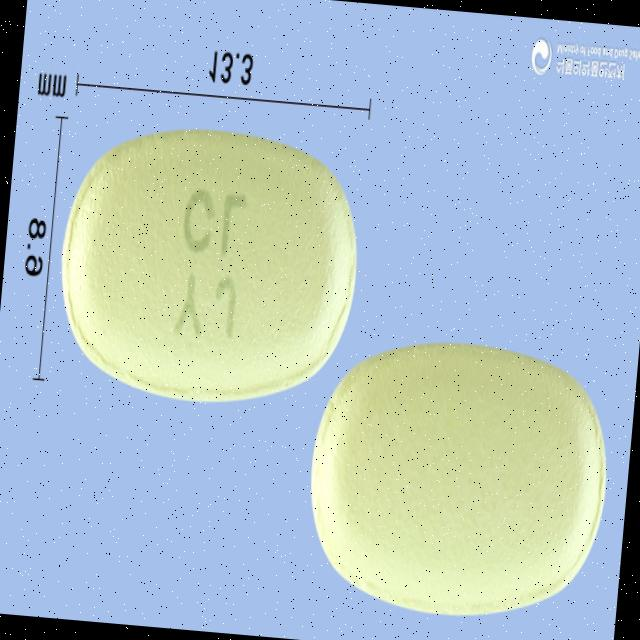Clacid -500mg: (48, 112, 376, 419)
